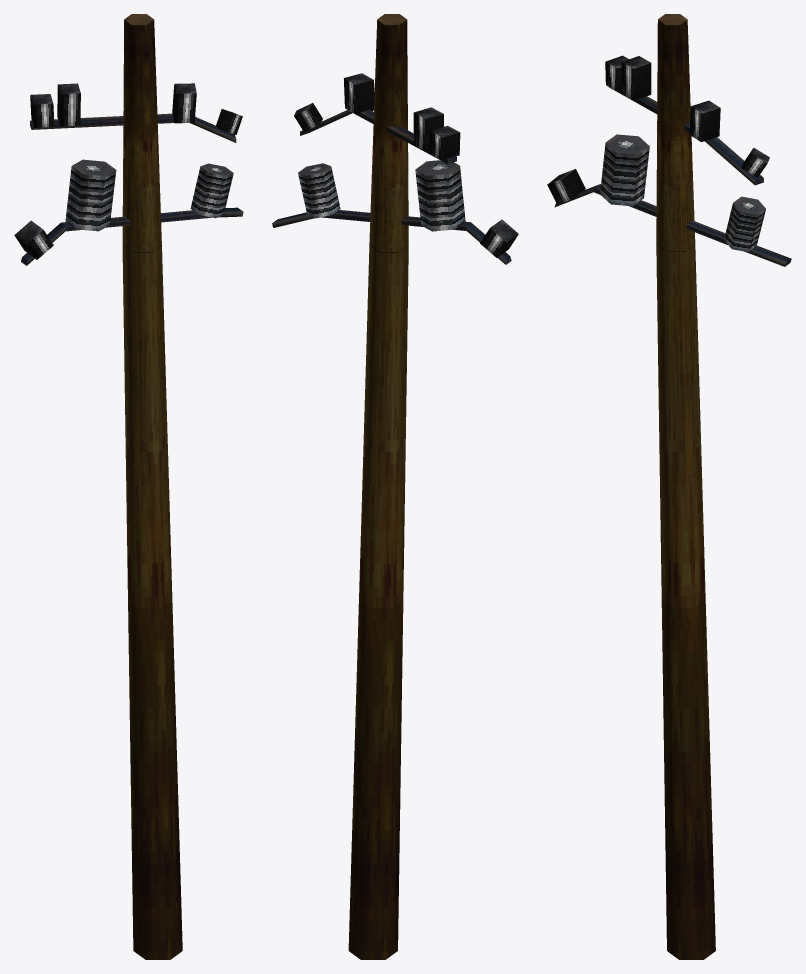
File: Environment - Prop - Wlampost D - PMWlampostD.glb
The picture shows the model from 3 angles, left to right: view 1: azimuth 30°, elevation 25°; view 2: azimuth 150°, elevation 25°; view 3: azimuth 330°, elevation 25°; orthographic projection.
Visible parts, largest first — view 1: PMWLAMPOSTD; view 2: PMWLAMPOSTD; view 3: PMWLAMPOSTD.
Boxes of the visible parts, box(x1,y1,x2,y2) form: PMWLAMPOSTD: box(14, 14, 243, 959); PMWLAMPOSTD: box(272, 14, 518, 959); PMWLAMPOSTD: box(547, 14, 791, 959).
Size of the model in its own units: 12.81 by 49.95 by 4.16.
1 material, 1 textured.
